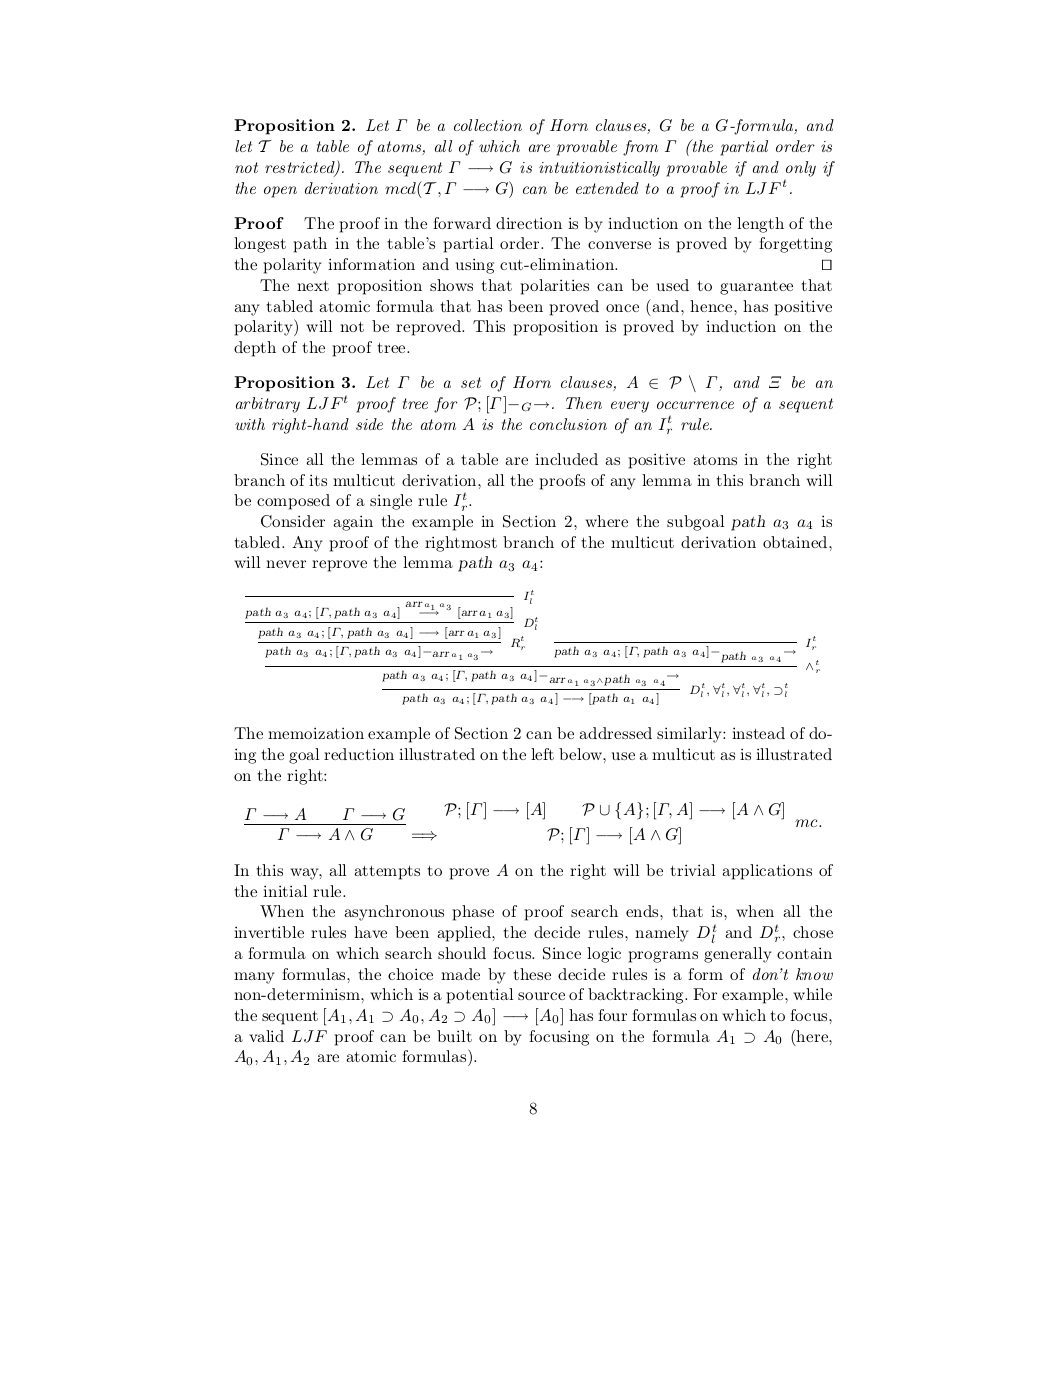formula: (245, 590, 820, 705), (244, 801, 821, 845)
